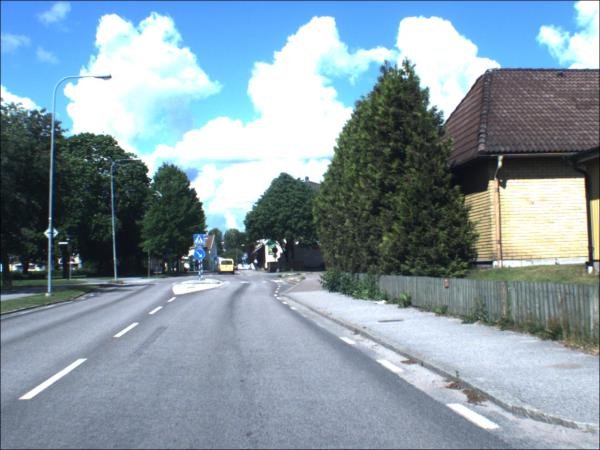NO_STOPPING_NO_STANDING: (273, 249, 280, 255)
PASS_RIGHT_SIDE: (196, 250, 207, 261)
PEDESTRIAN_CROSSING: (195, 236, 207, 247), (167, 254, 173, 260), (246, 254, 250, 259), (244, 258, 247, 262), (195, 260, 198, 263)
PRIORITY_ROAD: (274, 255, 280, 261)
